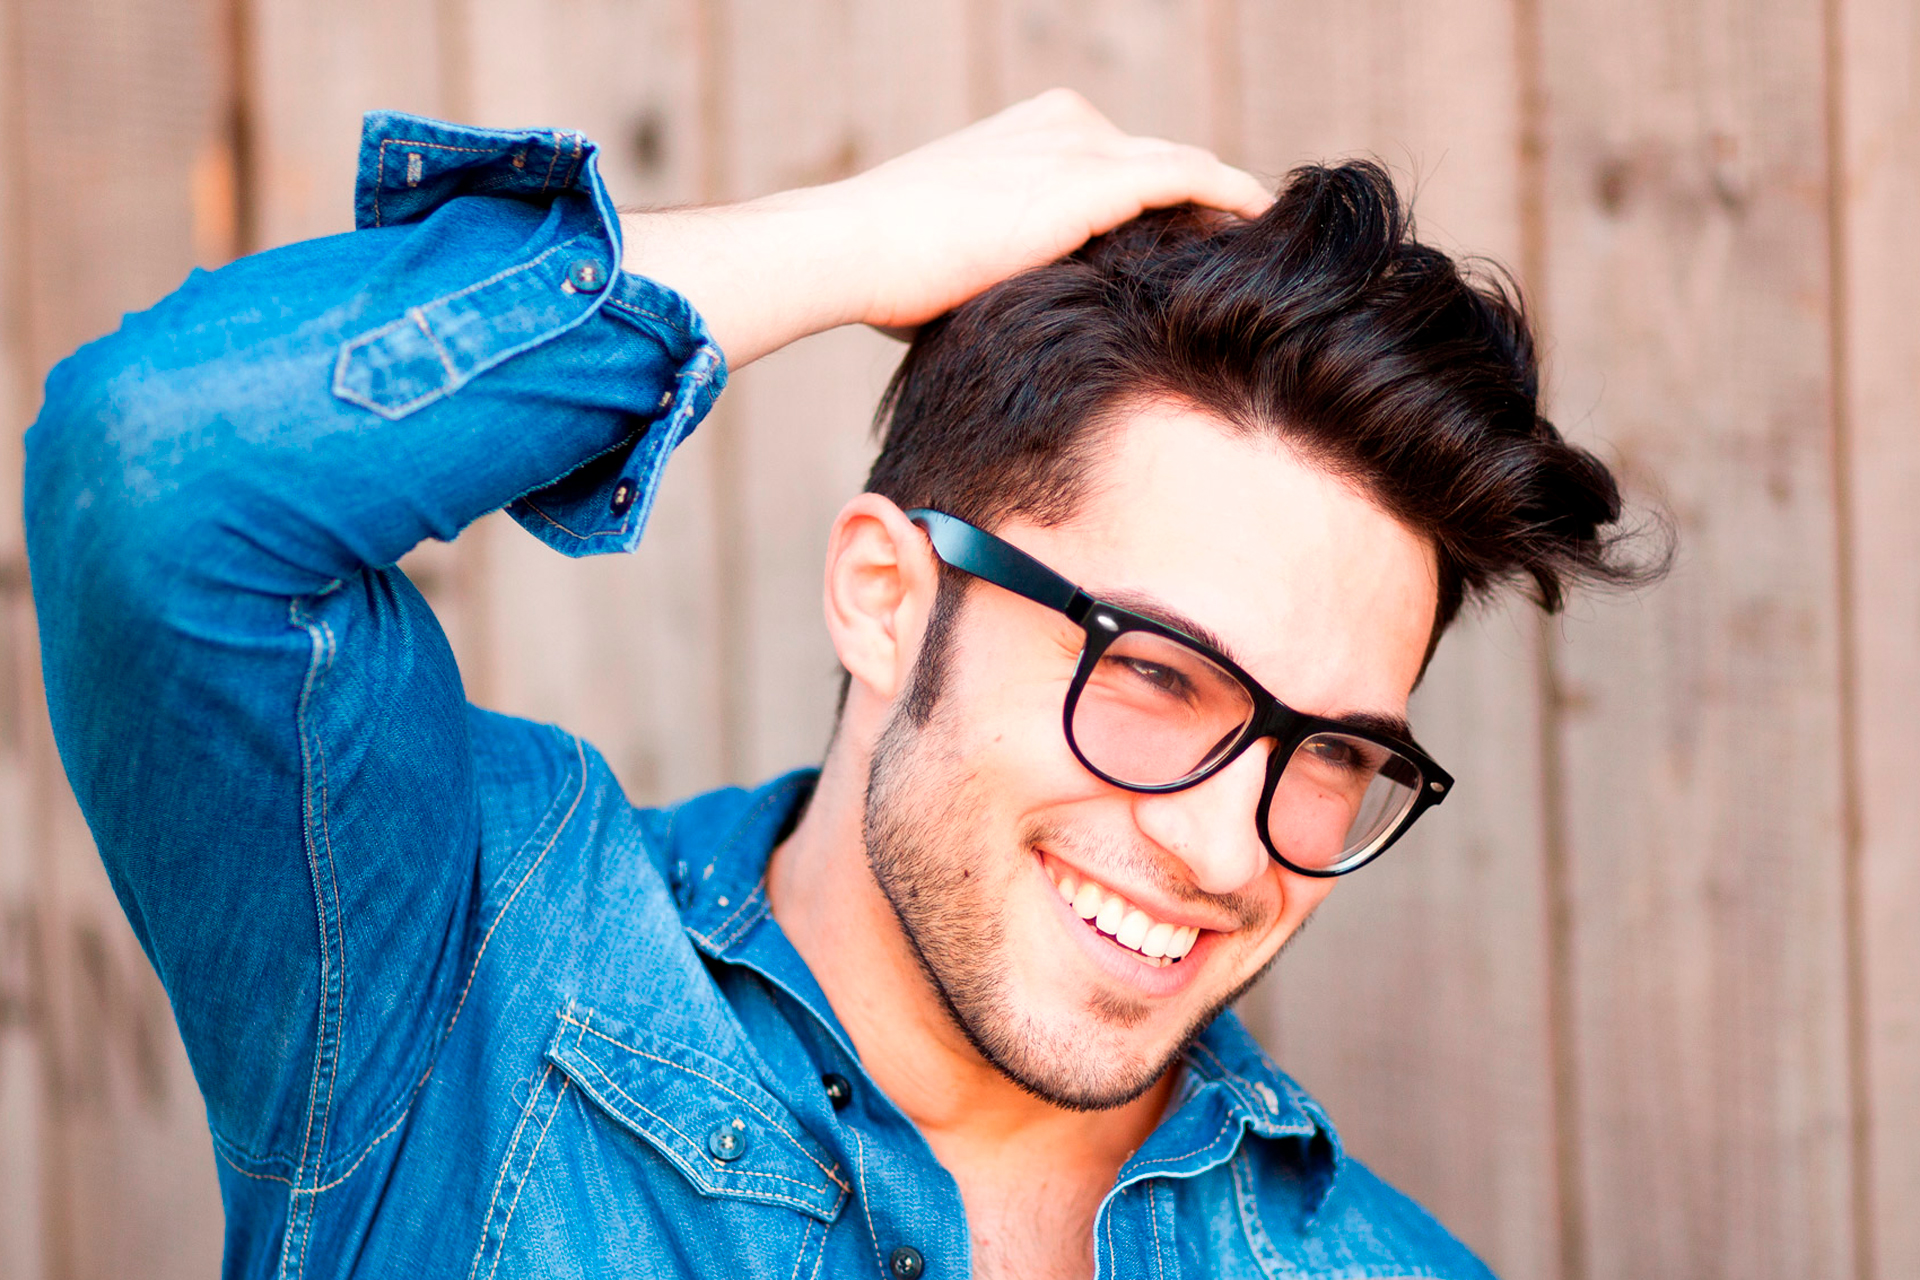glasses: (887, 511, 1483, 886)
